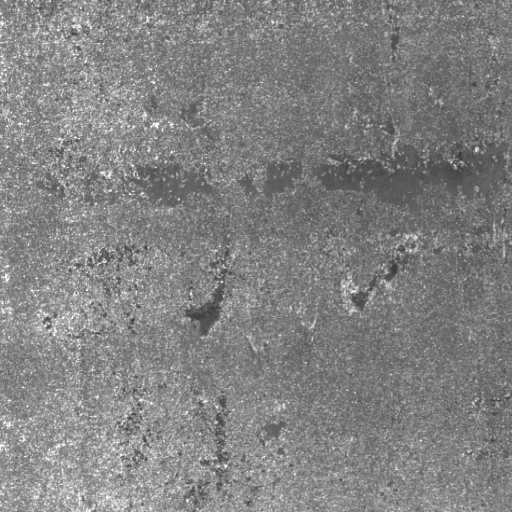aokeng: (350, 259, 399, 312), (184, 279, 226, 339)
